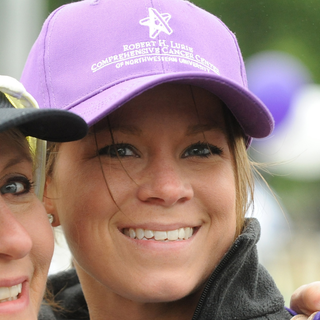eye: (175, 138, 228, 166), (97, 139, 145, 168), (1, 175, 34, 203)
